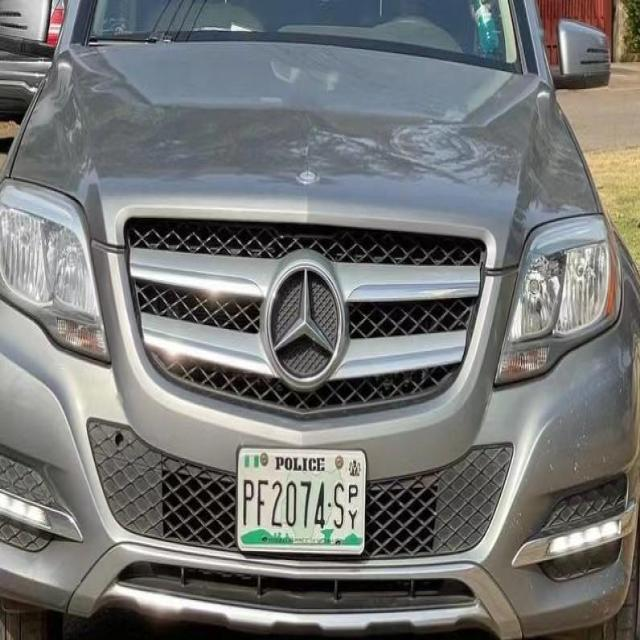Nigerian License Plate - vdataset benjamin-daria: (234, 445, 368, 560)
